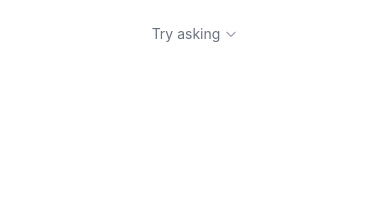
Test: DashboardSampleQuestions › closes on Escape and outside click without calling onAsk
Click the button with aria-label "Try asking a sample question" at {"x": 195, "y": 34}, box [144,12,246,56]
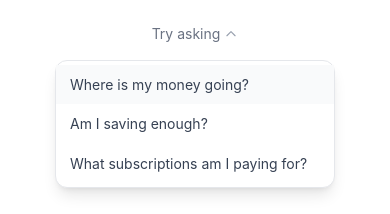
Result: the menu is shown at [55,60,335,188]
Press Escape
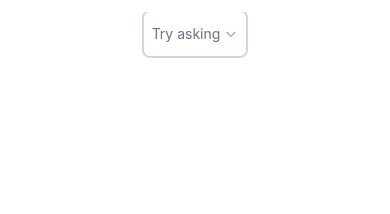
Result: the menu is gone
Click the button with aria-label "Try asking a sample question" at {"x": 195, "y": 34}, box [144,12,246,56]
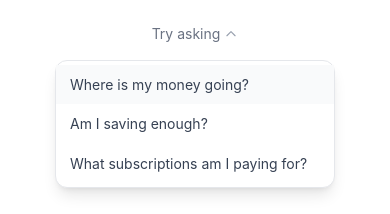
Press the mouse on the element that starts with "Try asking" at {"x": 195, "y": 100}, box [0,12,389,188]
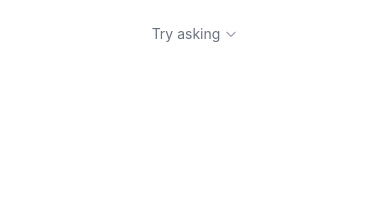
Result: the menu is gone
